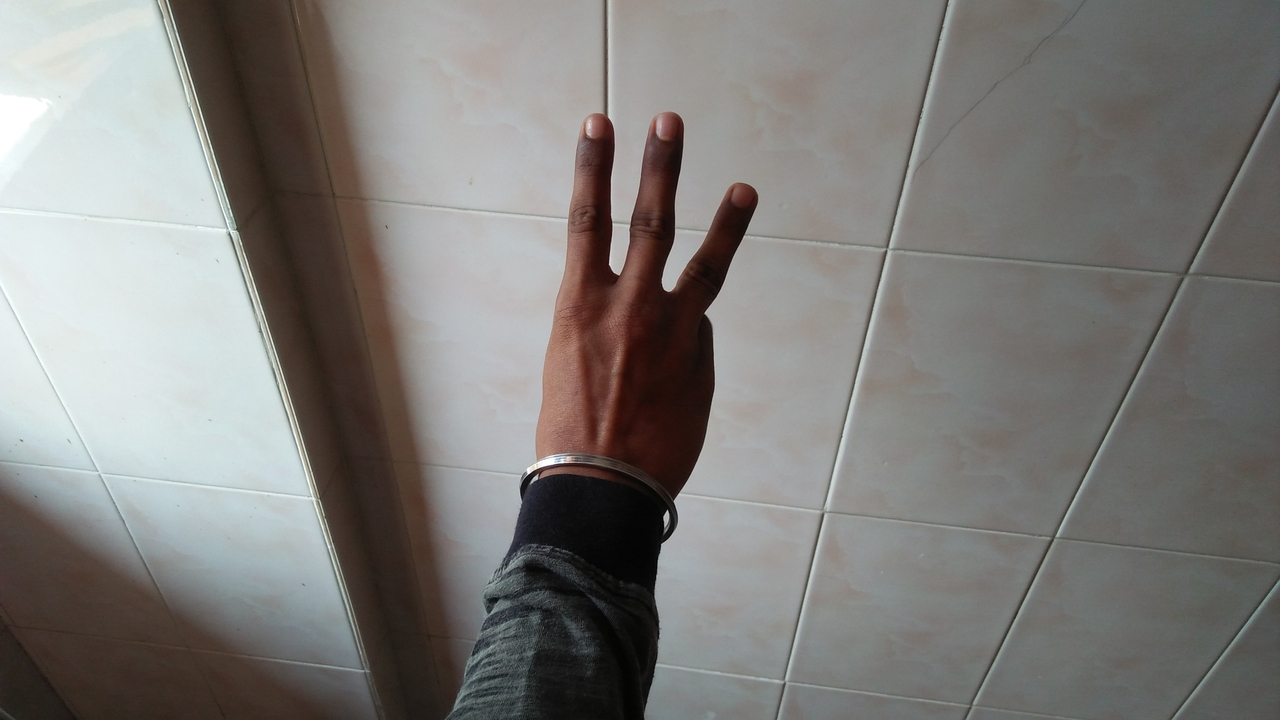fingertip: (710, 172, 766, 220), (638, 104, 690, 148), (570, 106, 618, 148)
